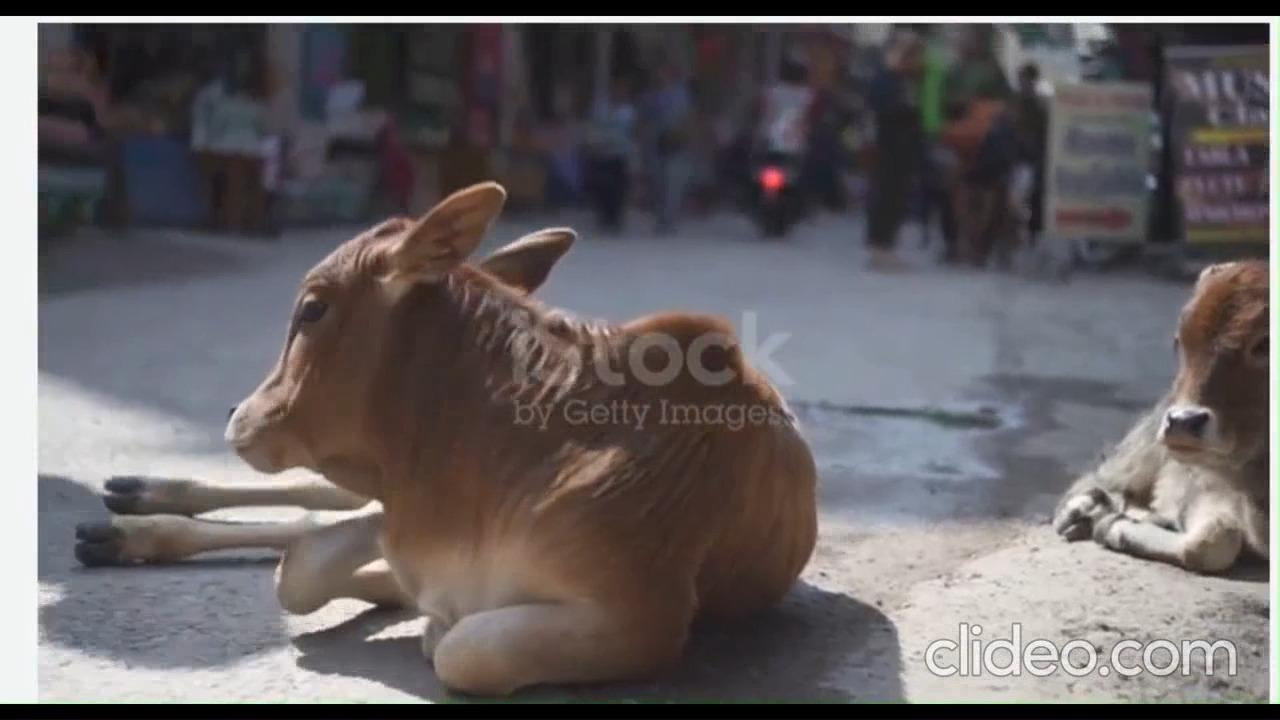Cow: (75, 139, 821, 640), (1009, 251, 1270, 580)
